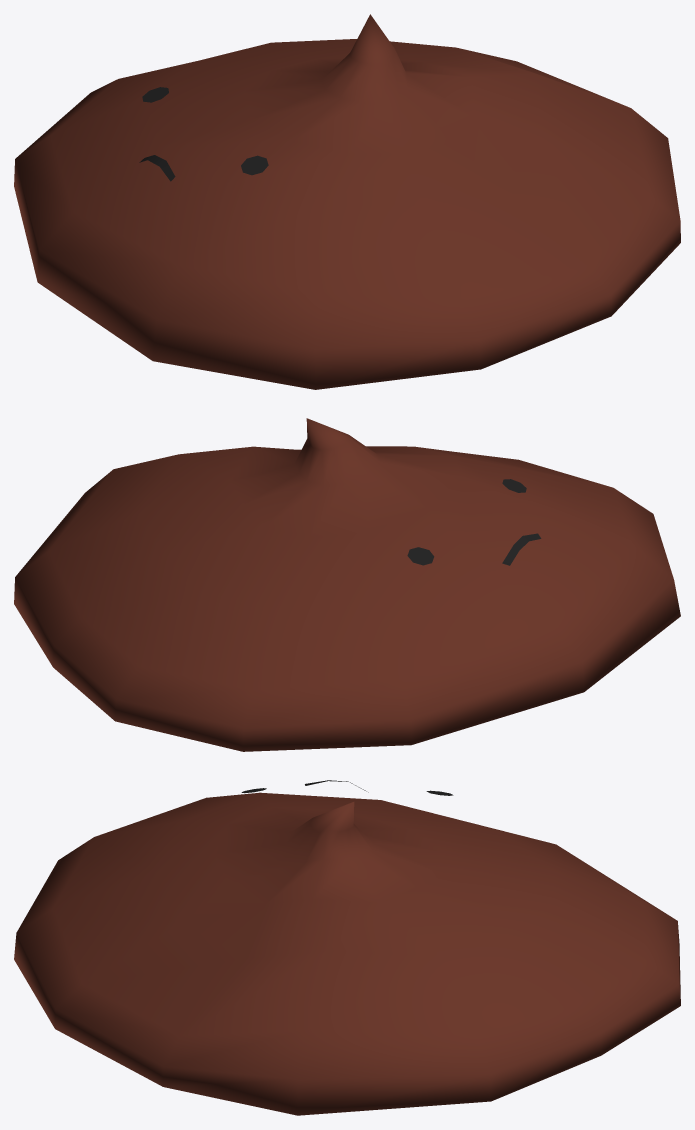
Rendered from poop2.fbx.
The picture shows the model from 3 angles, top to bottom: view 1: azimuth 30°, elevation 25°; view 2: azimuth 150°, elevation 25°; view 3: azimuth 270°, elevation 25°; orthographic projection. The views are drawn at different scales.
Visible parts, largest first — view 1: poop2; view 2: poop2; view 3: poop2.
Part boxes in pixels (left/top/right/bottom): poop2: left=14, top=14, right=680, bottom=389; poop2: left=14, top=418, right=680, bottom=751; poop2: left=14, top=780, right=680, bottom=1115.
Bounding box in the file's own units: 168 × 56.12 × 178.
